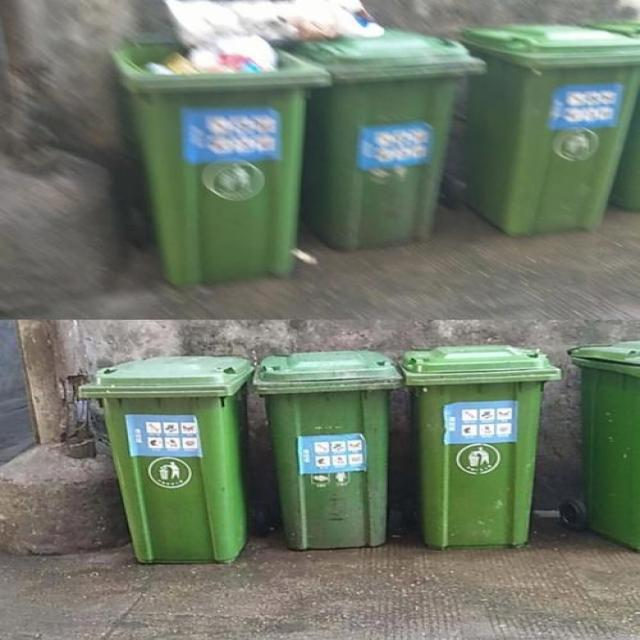garbage_bin: (463, 21, 639, 236), (77, 356, 252, 563), (398, 342, 558, 547), (252, 350, 400, 550), (567, 342, 639, 551)
overflow: (114, 0, 328, 282), (301, 0, 484, 252)
